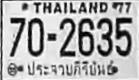0: (27, 17, 43, 56)
2: (59, 17, 75, 56)
3: (96, 17, 112, 56)
5: (115, 16, 131, 56)
6: (78, 17, 93, 55)
7: (9, 17, 25, 56)
PKN: (27, 59, 114, 79)
